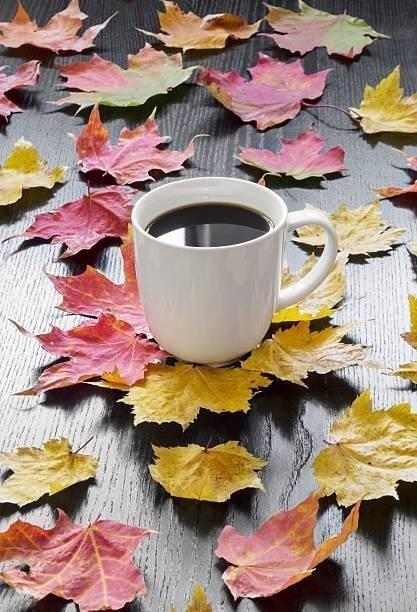cup-handle: (131, 175, 339, 367)
